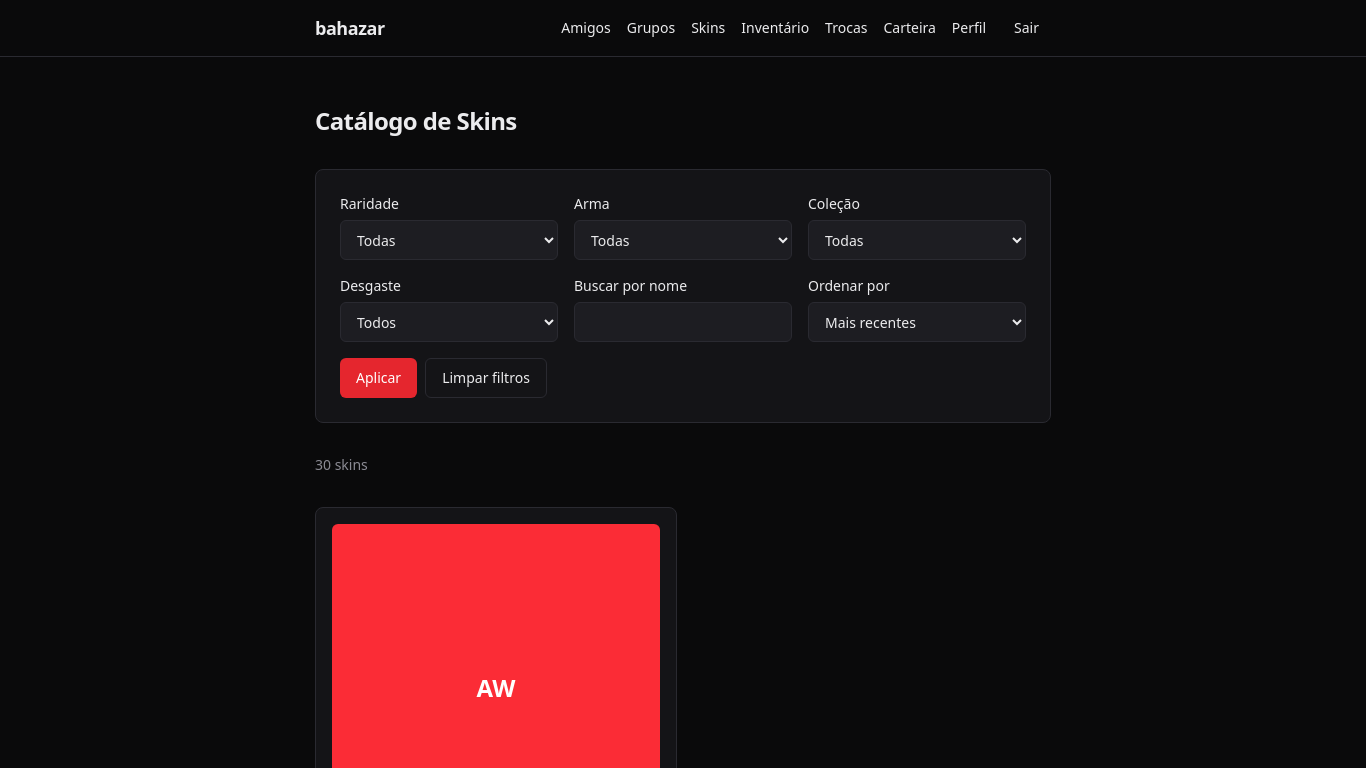
Test case: SkinsPage: catálogo /skins › filtros, ordenação e paginação › mudar um filtro volta para a primeira página (a query não leva `page`)
Select "Minimal Wear" in the dropdown labelled "Desgaste": (449, 322) [340,302,558,342]
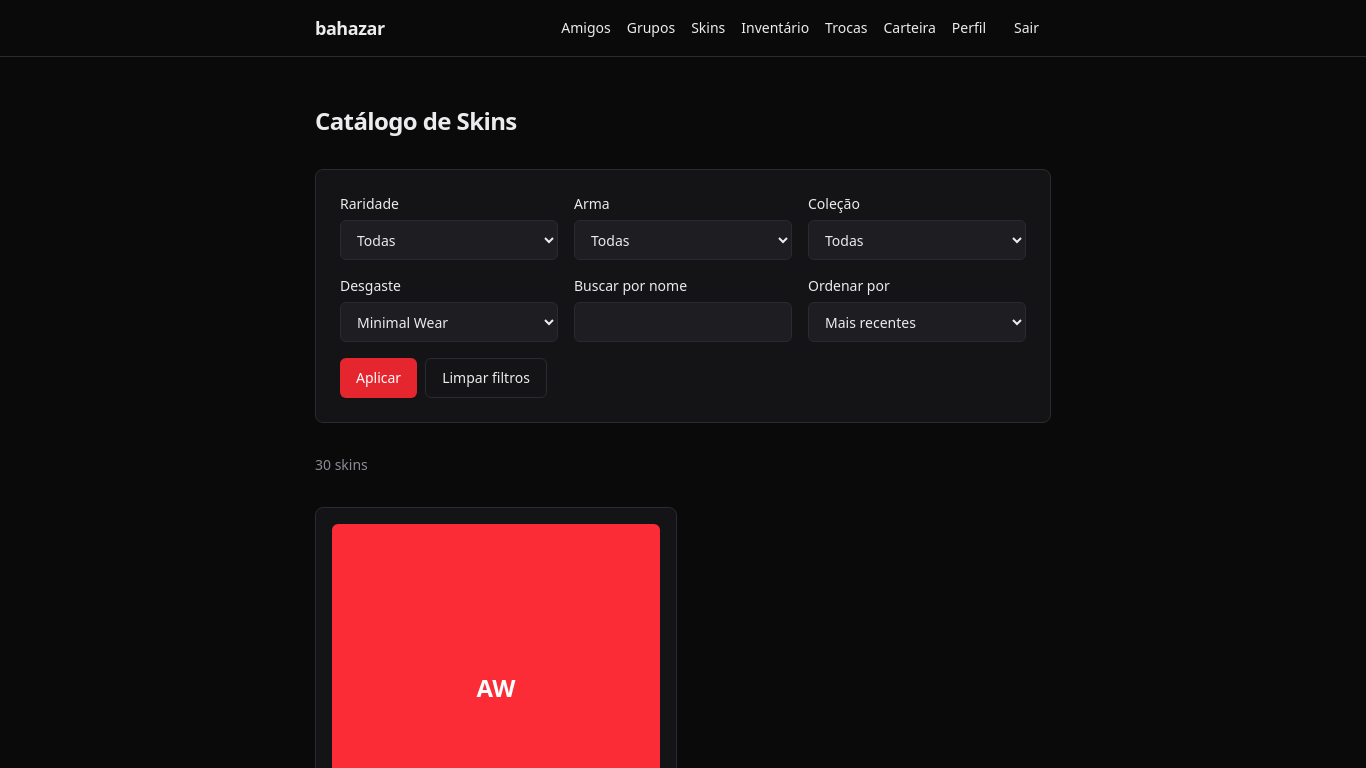
Click the button "Aplicar": click(379, 378) [340,358,417,398]
(page scrolled)
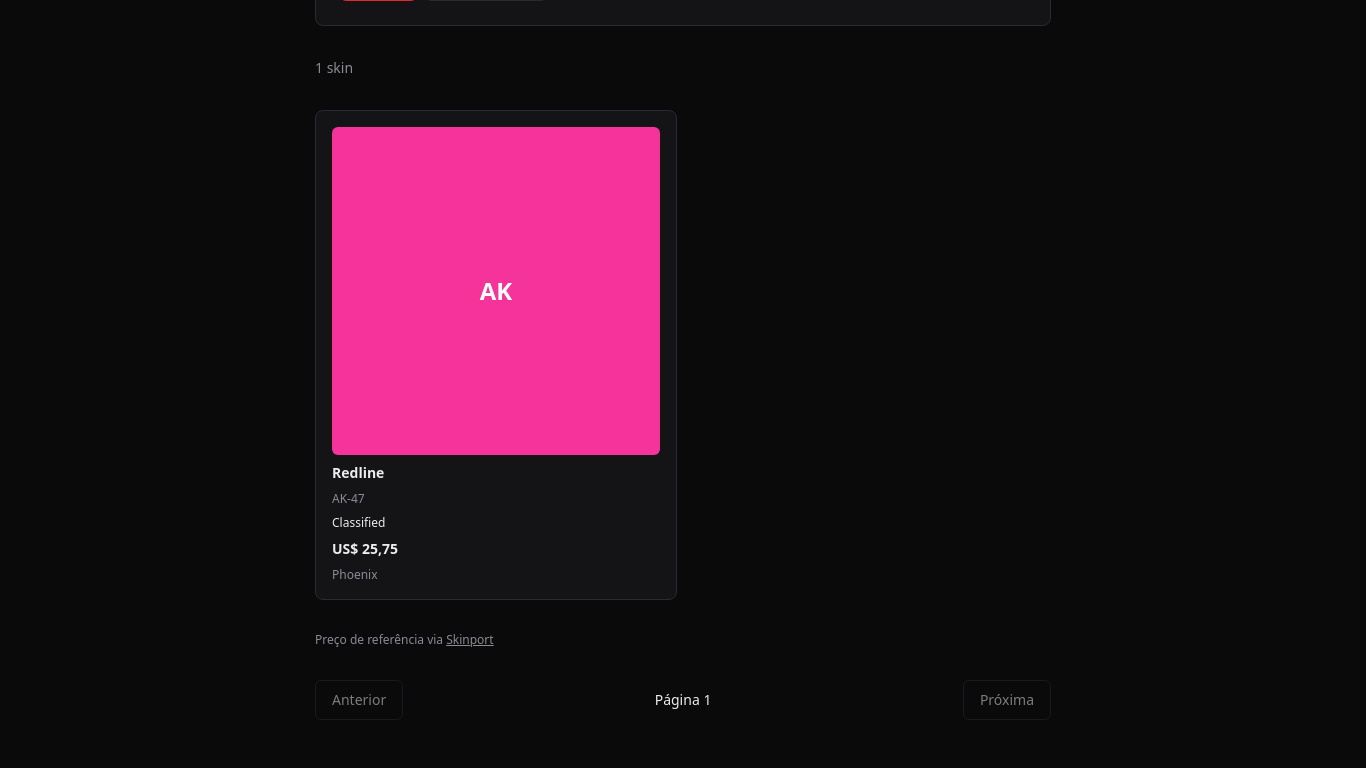
Result: the text "Redline" is shown at [332,463,384,482]
